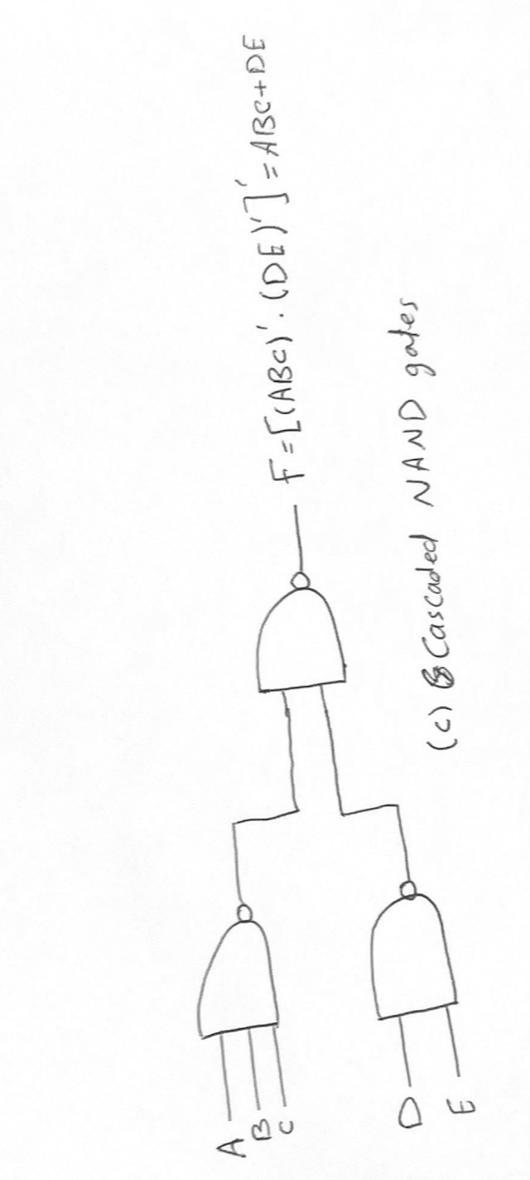NAND: (172, 890, 307, 1054), (232, 561, 367, 710), (355, 870, 475, 1036)
